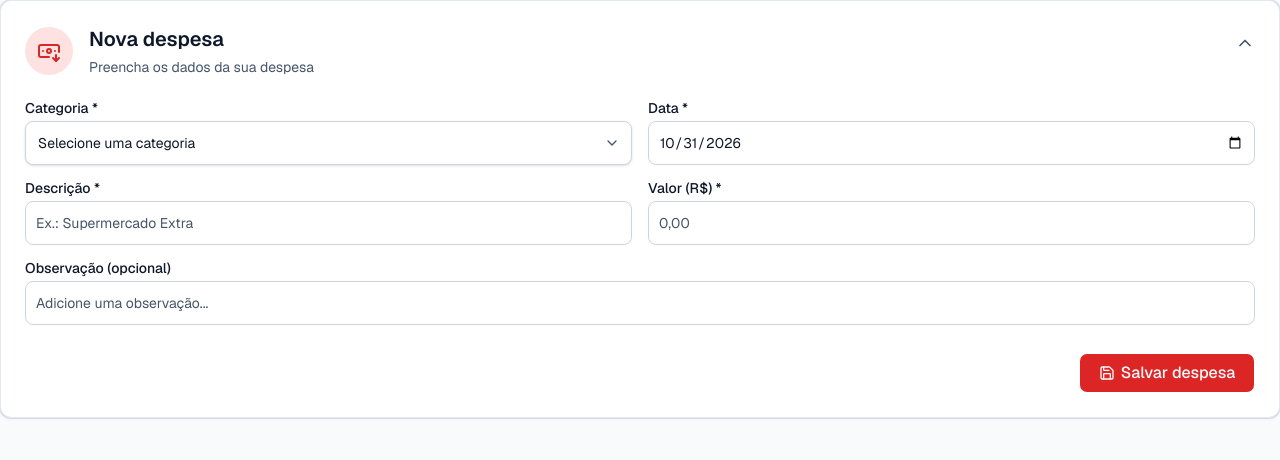
Scenario: ExpenseForm › should validate future date before submitting
Step 1. Select "Combustivel" in the dropdown labelled "Categoria *" → (328, 143), box [25,121,632,165]
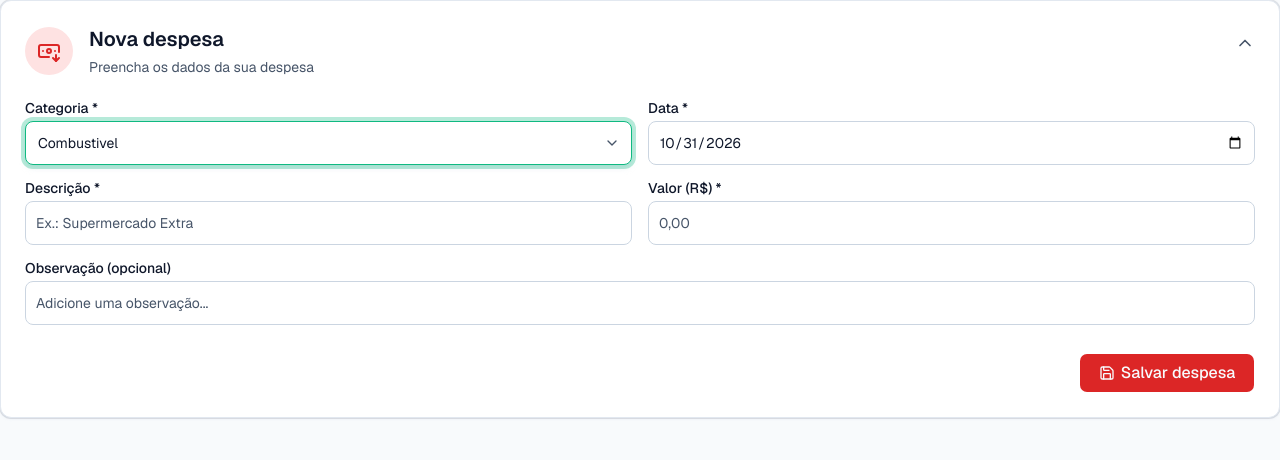
Step 2. Type "Combustivel" into the field labelled "Descrição *" → (328, 223), box [25,201,632,245]
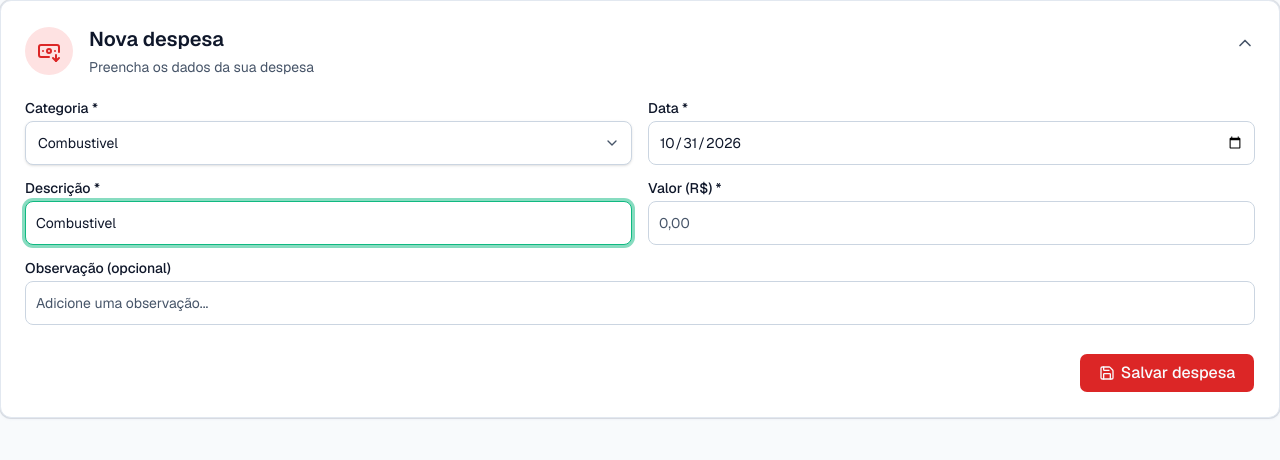
Step 3. Type "120" into the field labelled "Valor (R$) *" → (952, 223), box [648,201,1255,245]
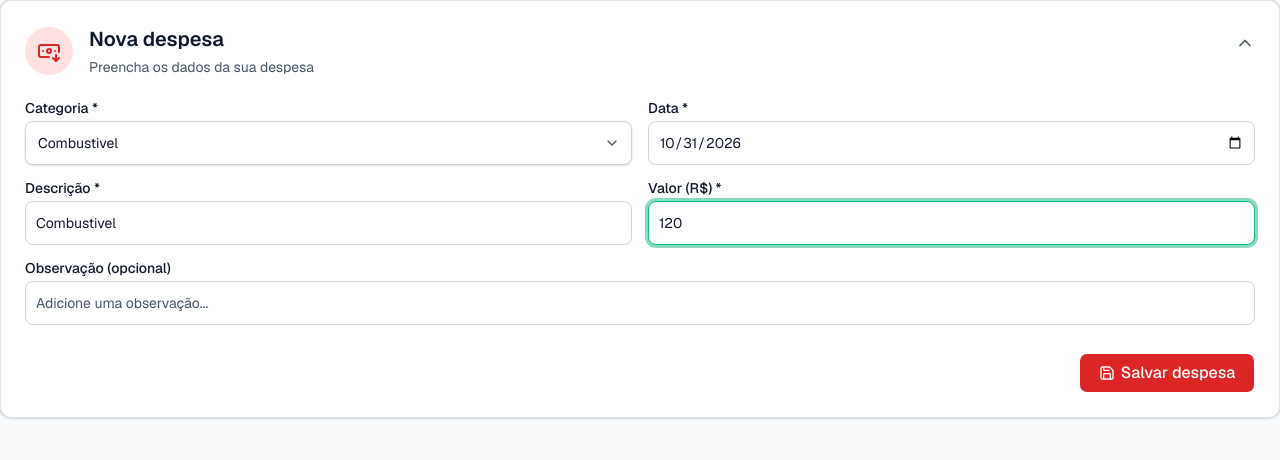
Step 4. Type "2999-01-01" into the date field labelled "Data *" → (952, 143), box [648,121,1255,165]
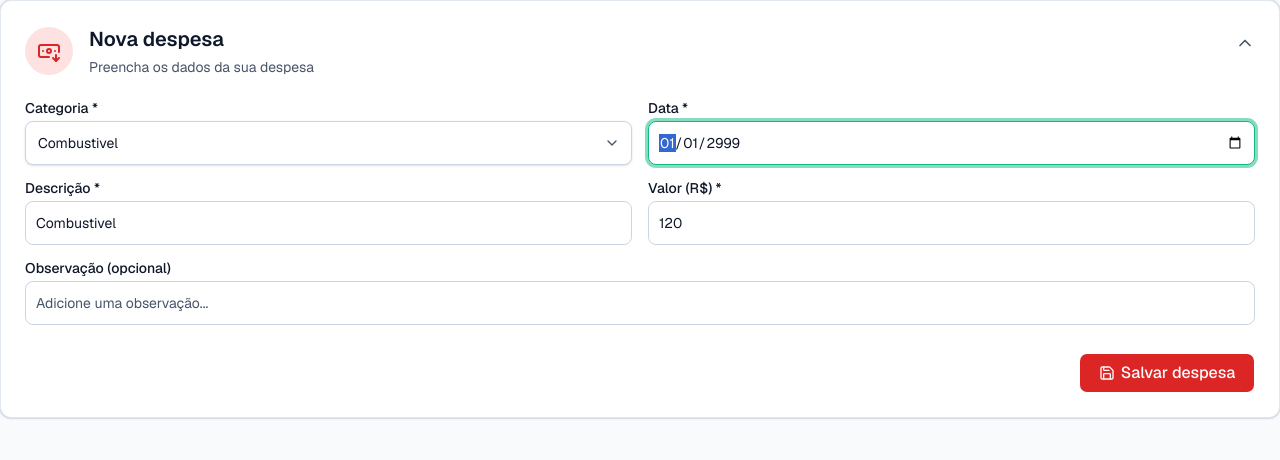
Step 5. Click the button "Salvar despesa" → (1167, 373), box [1079,353,1255,393]
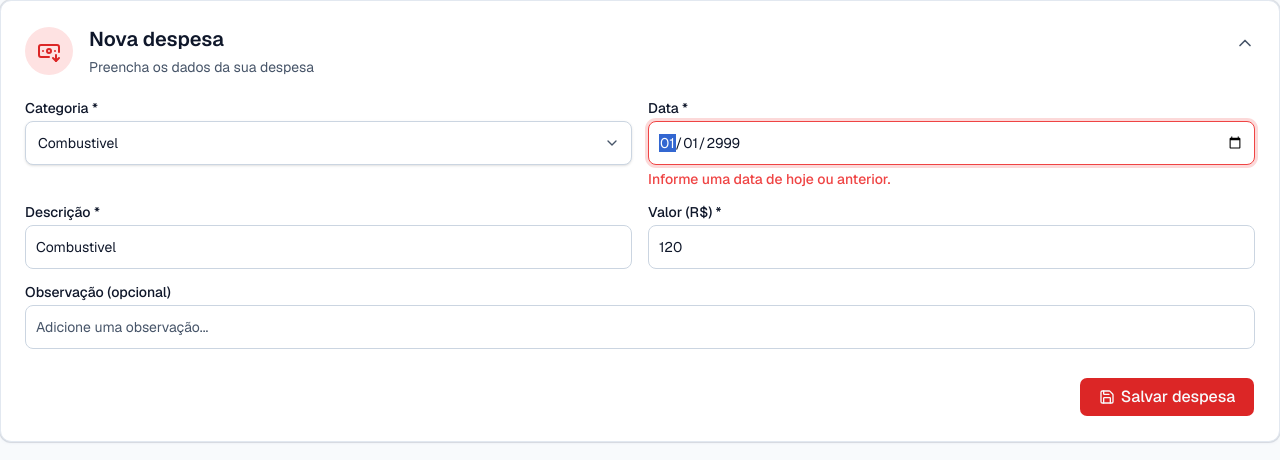
Expected: the text "Informe uma data de hoje ou anterior." is shown, [648,170,890,188]
